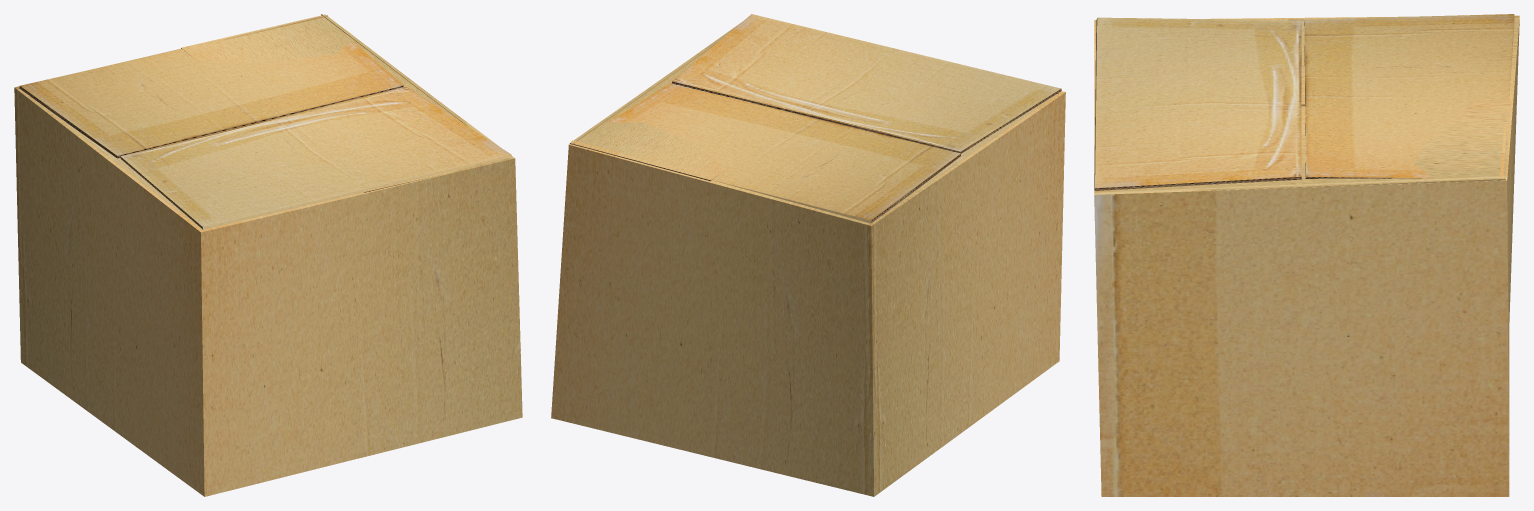
3 renders of one model, left to right at view 1: azimuth 30°, elevation 25°; view 2: azimuth 150°, elevation 25°; view 3: azimuth 270°, elevation 25°, orthographic. The views are drawn at different scales.
Parts seen in each view (by area): view 1: Cube.007; view 2: Cube.007; view 3: Cube.007.
Boxes of the visible parts, <box> form: Cube.007: <box>14,14,522,496</box>; Cube.007: <box>551,14,1065,496</box>; Cube.007: <box>1094,14,1519,496</box>.
Size of the model in its own units: 1.98 by 1.61 by 2.
1 material, 1 textured.
